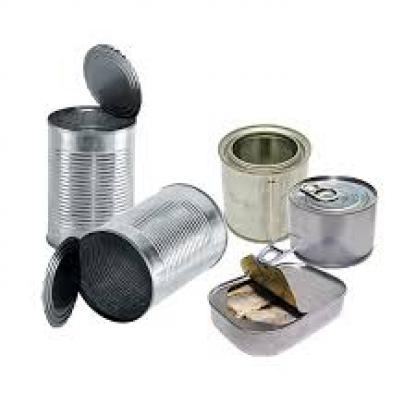METAL: (77, 183, 226, 324), (207, 242, 346, 355), (44, 104, 133, 255), (220, 122, 309, 244), (288, 172, 374, 264), (80, 43, 140, 118), (42, 237, 80, 327)
